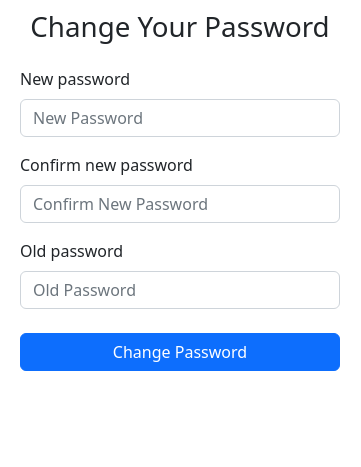
Test: Testing EditPassword component › Testing with empty inputs
The width and height of the screenshot is (361, 467).
Click the button "Change Password".
click(180, 352)  # box [20, 333, 340, 371]
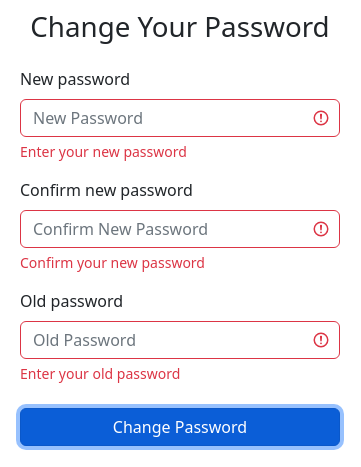
Check: the text "Enter your new password" is shown, box [20, 142, 187, 161]
Check: the text "Confirm your new password" is shown, box [20, 253, 205, 272]
Check: the text "Enter your old password" is shown, box [20, 364, 180, 383]
